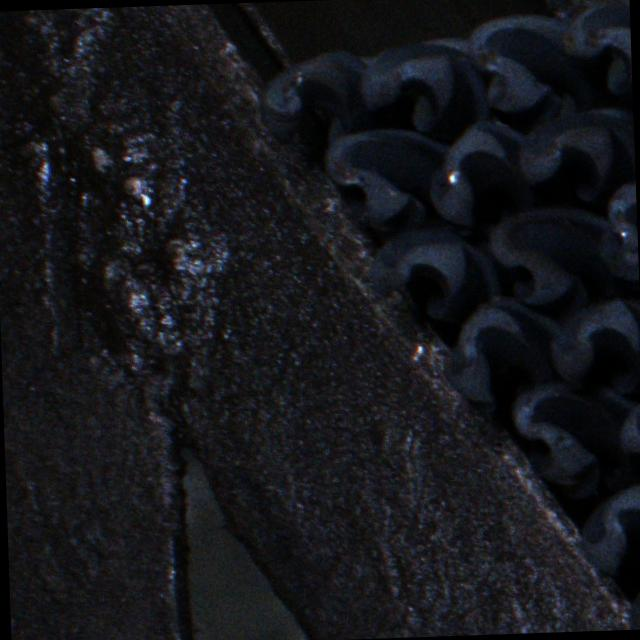tool_b: (510, 379, 640, 500), (442, 293, 560, 420), (469, 12, 600, 124), (324, 127, 452, 236), (486, 202, 610, 314), (426, 117, 537, 240), (356, 36, 489, 138), (366, 228, 500, 326), (256, 48, 378, 152), (515, 106, 636, 202), (548, 292, 640, 397), (559, 0, 632, 99), (578, 481, 640, 588)
